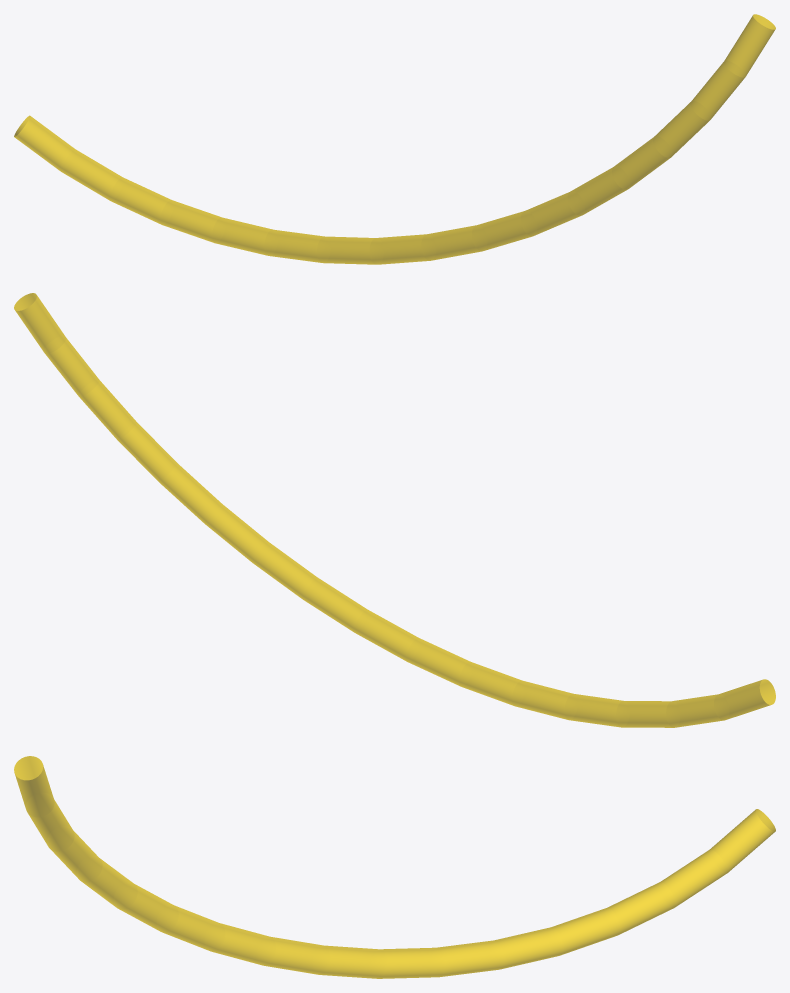
Rendered from Event_100608114_track_81.fbx.
3 renders of one model, top to bottom at view 1: azimuth 30°, elevation 25°; view 2: azimuth 210°, elevation 25°; view 3: azimuth 270°, elevation 25°, orthographic. The views are drawn at different scales.
Visible parts, largest first — view 1: Model; view 2: Model; view 3: Model.
Boxes of the visible parts, left/top/right/bottom form: Model: left=14, top=14, right=775, bottom=264; Model: left=14, top=293, right=775, bottom=727; Model: left=14, top=756, right=775, bottom=978.
Size of the model in its own units: 0.7408 by 0.5345 by 1.02.
